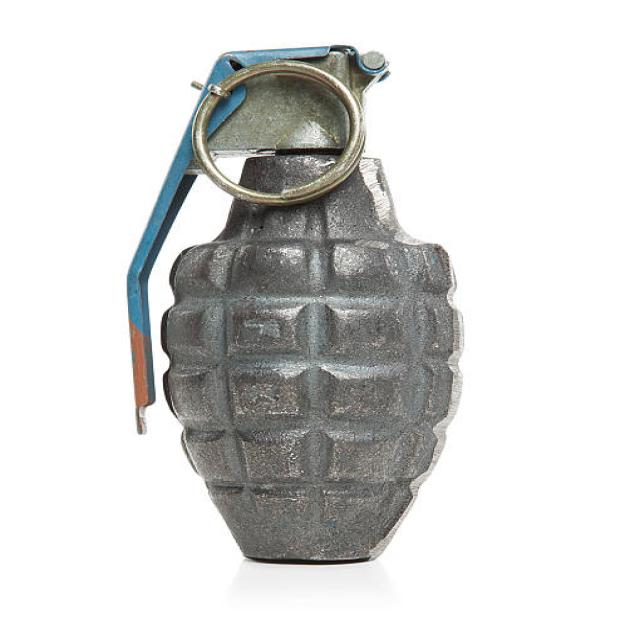grenade: (110, 39, 476, 571)
